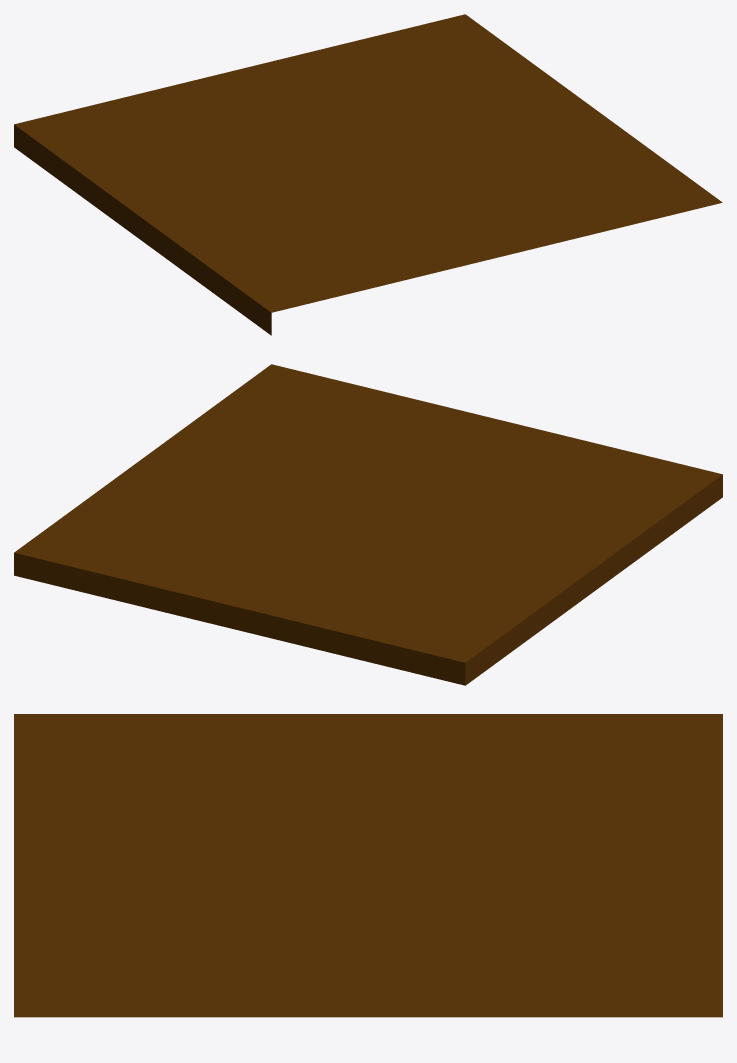
Rendered from case20.gltf.
The picture shows the model from 3 angles, top to bottom: view 1: azimuth 30°, elevation 25°; view 2: azimuth 150°, elevation 25°; view 3: azimuth 270°, elevation 25°; orthographic projection. The views are drawn at different scales.
Visible parts, largest first — view 1: a2; view 2: a2; view 3: a2.
Part boxes in pixels (bbox=[...]): a2: bbox=[14, 14, 722, 335]; a2: bbox=[14, 364, 722, 685]; a2: bbox=[14, 714, 722, 1017].
Bounding box in the file's own units: 0.5143 × 0.025 × 0.5081.
